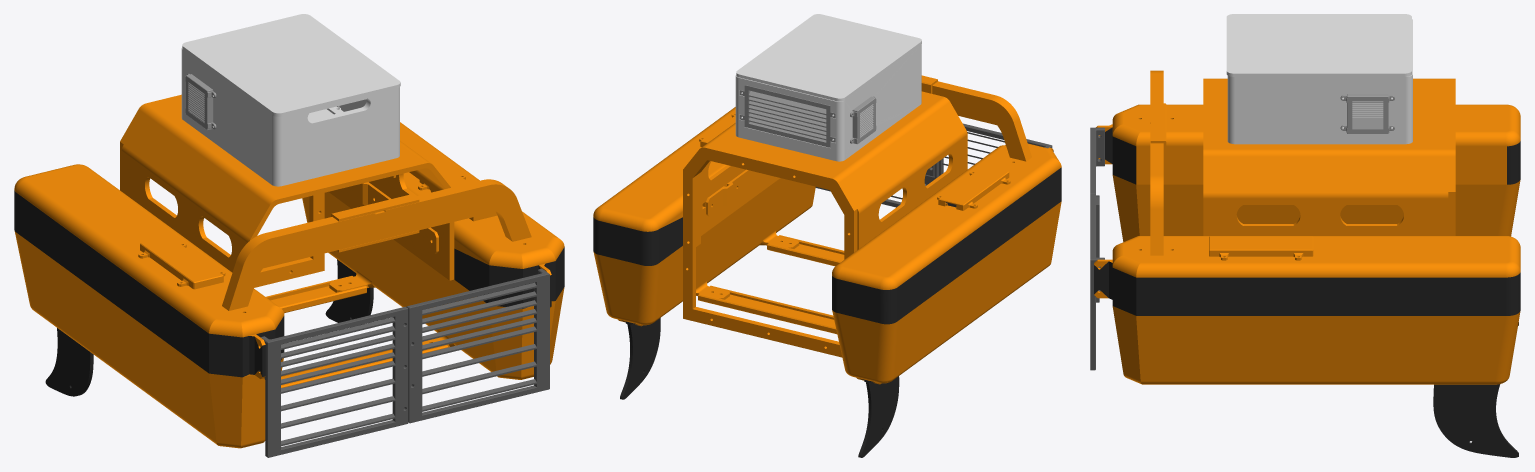
Rendered from sin_nombre.fbx.
The picture shows the model from 3 angles, left to right: view 1: azimuth 30°, elevation 25°; view 2: azimuth 150°, elevation 25°; view 3: azimuth 270°, elevation 25°; orthographic projection. The views are drawn at different scales.
Parts seen in each view (by area): view 1: Ensamblaje.002; view 2: Ensamblaje.002; view 3: Ensamblaje.002.
Boxes of the visible parts, x1,y1,x2,y2 form: Ensamblaje.002: [14, 14, 564, 457]; Ensamblaje.002: [593, 14, 1061, 457]; Ensamblaje.002: [1090, 14, 1520, 457].
Size of the model in its own units: 2091 by 2036 by 2283.
